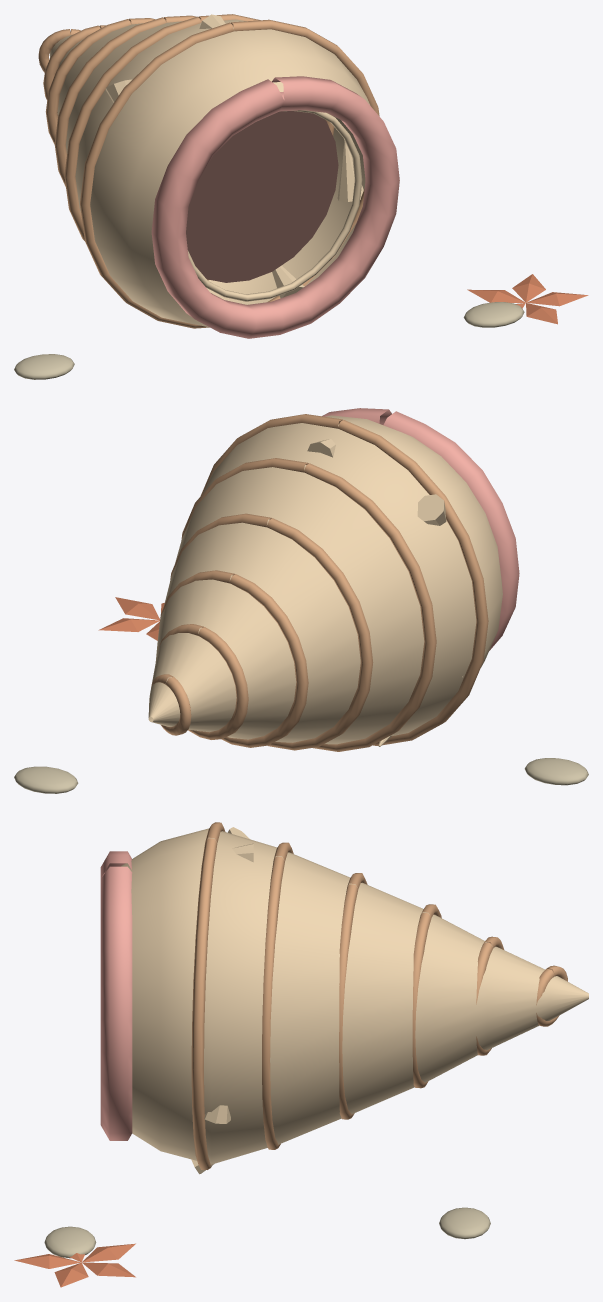
File: giant_conch.glb
The picture shows the model from 3 angles, top to bottom: view 1: azimuth 30°, elevation 25°; view 2: azimuth 150°, elevation 25°; view 3: azimuth 270°, elevation 25°; orthographic projection. The views are drawn at different scales.
Parts seen in each view (by area): view 1: Pigment_e9d1ad, Pigment_ecaaa0, Pigment_765750, Pigment_d6a77f, Pigment_c9bea3, Pigment_ce805d; view 2: Pigment_e9d1ad, Pigment_d6a77f, Pigment_ecaaa0, Pigment_c9bea3, Pigment_ce805d; view 3: Pigment_e9d1ad, Pigment_d6a77f, Pigment_ecaaa0, Pigment_c9bea3, Pigment_ce805d.
Boxes of the visible parts, bbox=[...] form: Pigment_e9d1ad: bbox=[50, 14, 370, 326]; Pigment_ecaaa0: bbox=[151, 76, 399, 338]; Pigment_765750: bbox=[186, 111, 338, 282]; Pigment_d6a77f: bbox=[38, 14, 379, 328]; Pigment_c9bea3: bbox=[14, 302, 524, 379]; Pigment_ce805d: bbox=[467, 274, 588, 324]; Pigment_e9d1ad: bbox=[148, 415, 502, 746]; Pigment_d6a77f: bbox=[151, 414, 488, 751]; Pigment_ecaaa0: bbox=[322, 408, 519, 650]; Pigment_c9bea3: bbox=[14, 758, 588, 793]; Pigment_ce805d: bbox=[98, 597, 164, 640]; Pigment_e9d1ad: bbox=[121, 827, 588, 1174]; Pigment_d6a77f: bbox=[191, 822, 567, 1169]; Pigment_ecaaa0: bbox=[100, 851, 132, 1140]; Pigment_c9bea3: bbox=[44, 1207, 490, 1258]; Pigment_ce805d: bbox=[14, 1243, 135, 1287].
Size of the model in its own units: 5.47 by 3.09 by 5.1.
